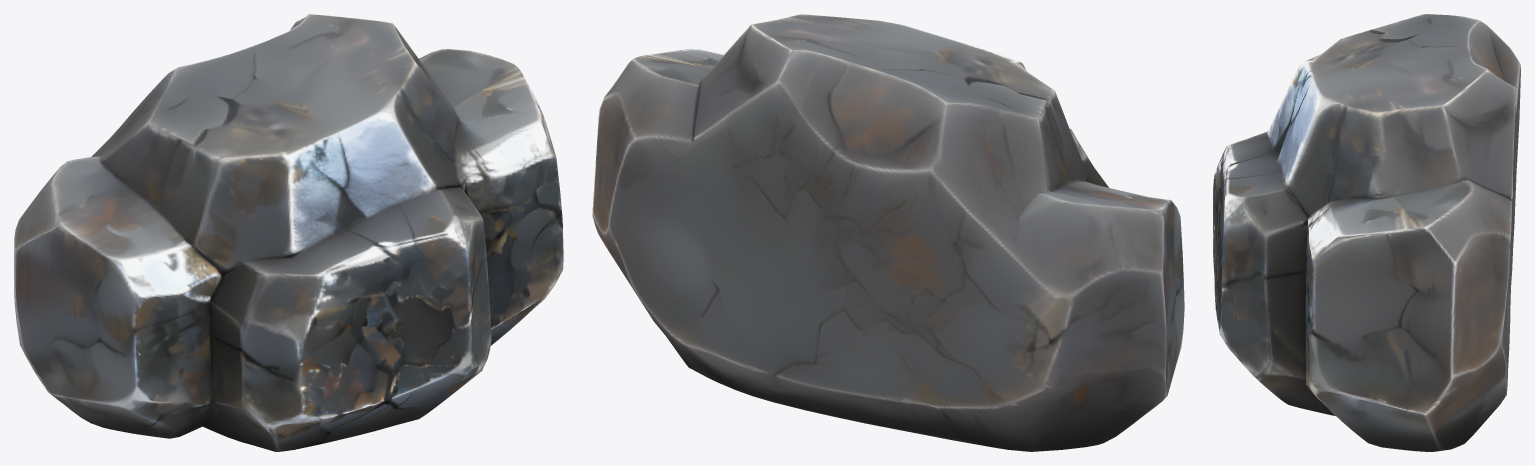
File: base_basic_shaded.fbx
3 views of the same model, side by side, from view 1: azimuth 30°, elevation 25°; view 2: azimuth 150°, elevation 25°; view 3: azimuth 270°, elevation 25° (orthographic). The views are drawn at different scales.
Parts seen in each view (by area): view 1: model; view 2: model; view 3: model.
Part boxes in pixels (x1,y1,x2,y2): model: (14,14,563,451); model: (592,14,1184,451); model: (1213,14,1520,451).
Bounding box in the file's own units: 181 × 111 × 93.53.
